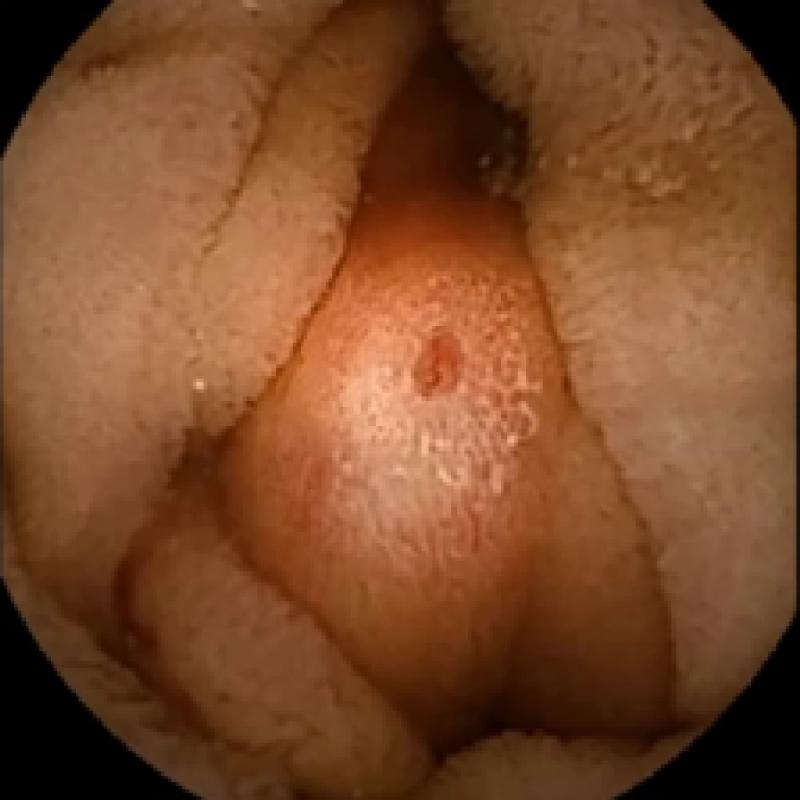bleeding: (350, 7, 536, 236), (100, 544, 167, 713), (413, 328, 464, 399)
